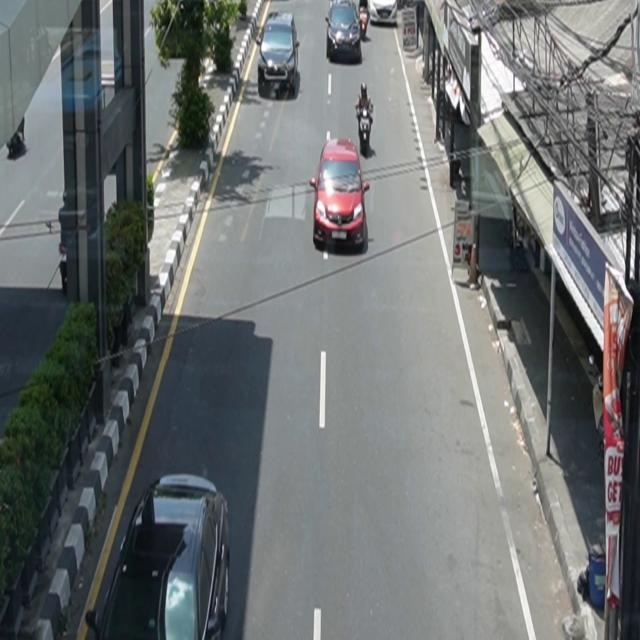car: (86, 473, 231, 640), (310, 138, 371, 252), (258, 12, 301, 97), (326, 1, 362, 64), (369, 1, 398, 26)
